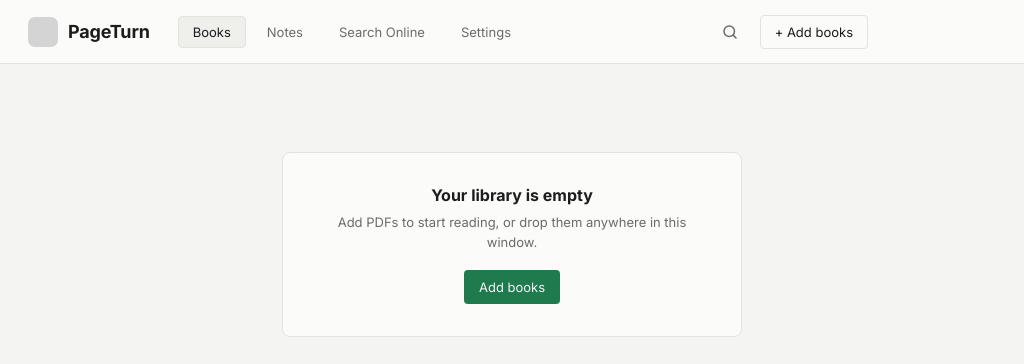
Test case: HomeView › Search Online is a placeholder for now
Click the tab "Search Online".
click(382, 32)  # box [324,16,440,48]
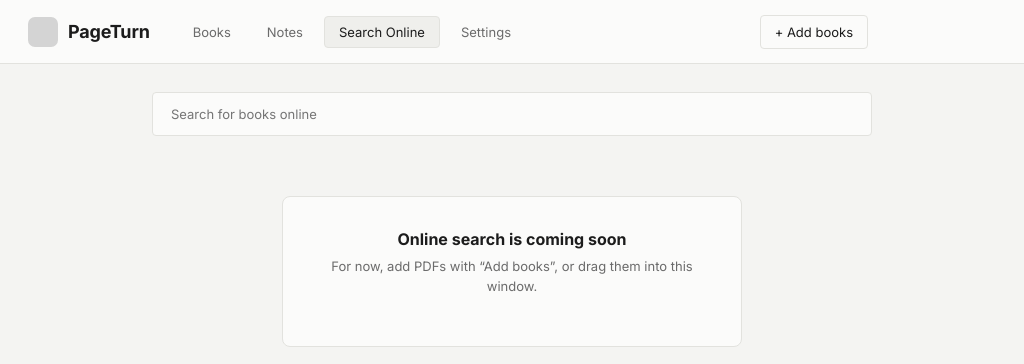
Expected: the heading "Online search is coming soon" is shown, [397,229,626,249]
